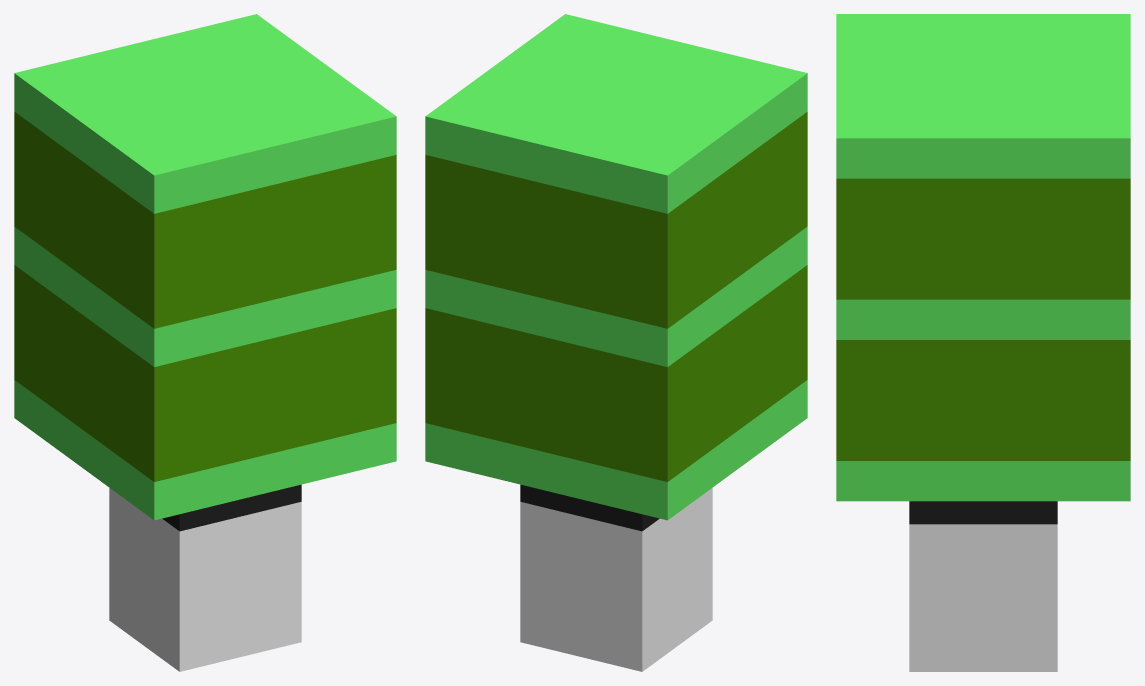
The model's file is tree2.fbx.
The picture shows the model from 3 angles, left to right: view 1: azimuth 30°, elevation 25°; view 2: azimuth 150°, elevation 25°; view 3: azimuth 270°, elevation 25°; orthographic projection. The views are drawn at different scales.
Parts seen in each view (by area): view 1: Model; view 2: Model; view 3: Model.
Part boxes in pixels (box(x1,y1,x2,y2)): Model: box(14, 14, 396, 671); Model: box(425, 14, 807, 671); Model: box(836, 14, 1130, 671).
Bounding box in the file's own units: 0.993 × 2.1 × 0.993.
